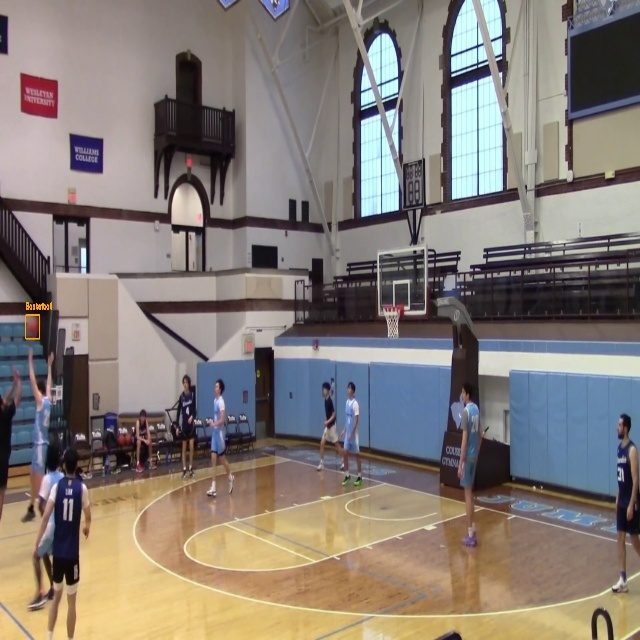Basketball: (26, 315, 40, 339)
